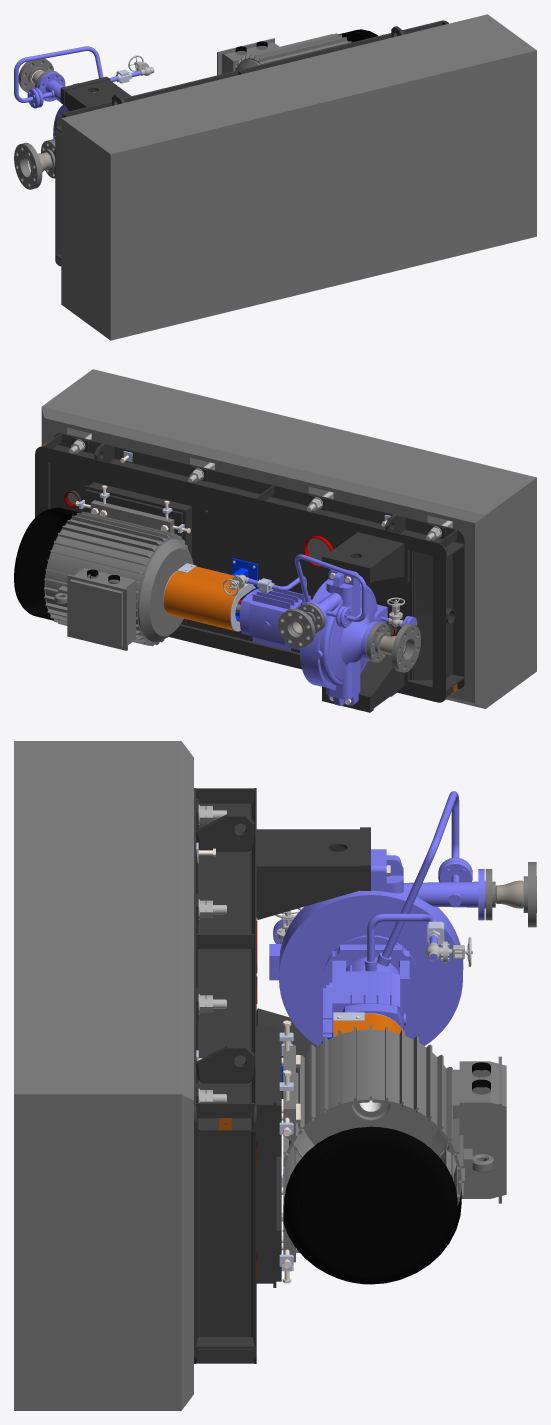
File: pump.glb
The picture shows the model from 3 angles, top to bottom: view 1: azimuth 30°, elevation 25°; view 2: azimuth 150°, elevation 25°; view 3: azimuth 270°, elevation 25°; orthographic projection. The views are drawn at different scales.
Parts seen in each view (by area): view 1: a.IGS (×7); view 2: a.IGS (×13); view 3: a.IGS (×12).
Part boxes in pixels (bbox=[...]): a.IGS (×7): bbox=[14, 14, 536, 340]; a.IGS (×13): bbox=[14, 369, 536, 712]; a.IGS (×12): bbox=[14, 741, 536, 1410].
Size of the model in its own units: 2.67 by 1.12 by 1.67.
